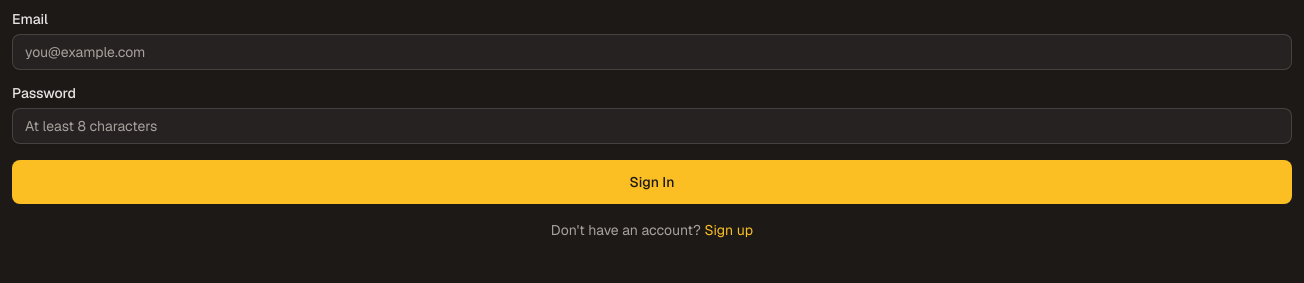
EmailPasswordForm › validates email format on blur
Type "not-an-email" into the field labelled "Email" at (652, 52), box [12, 34, 1292, 70]
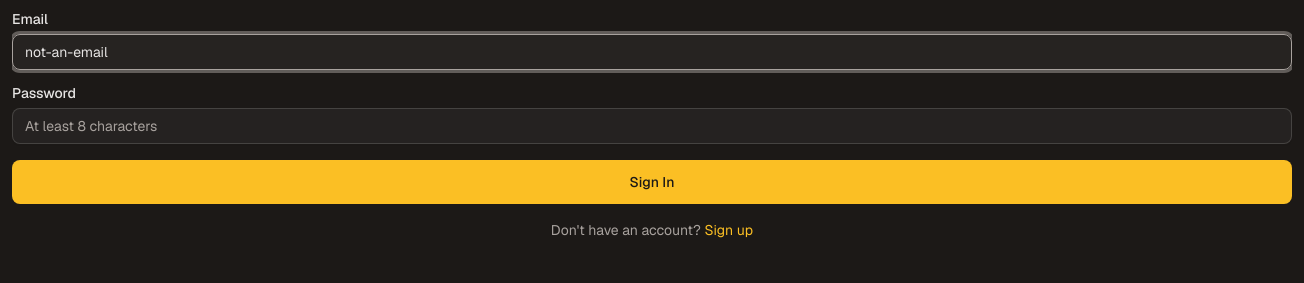
Press Tab
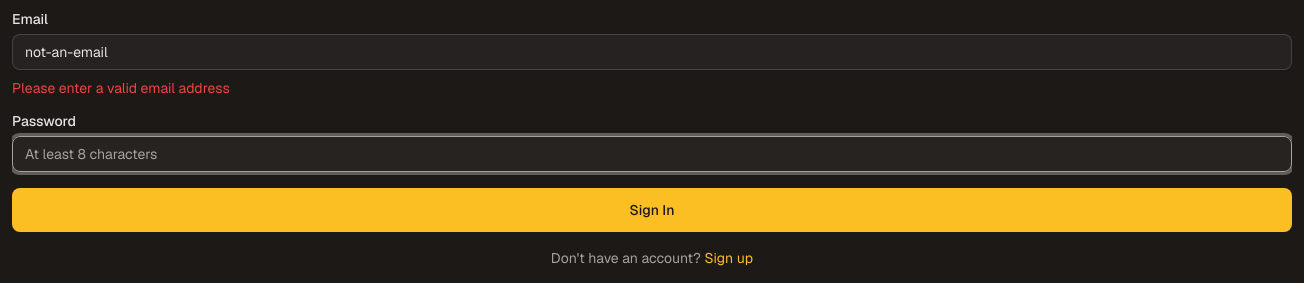
Now the text "Please enter a valid email address" is shown, box [12, 79, 230, 97]
